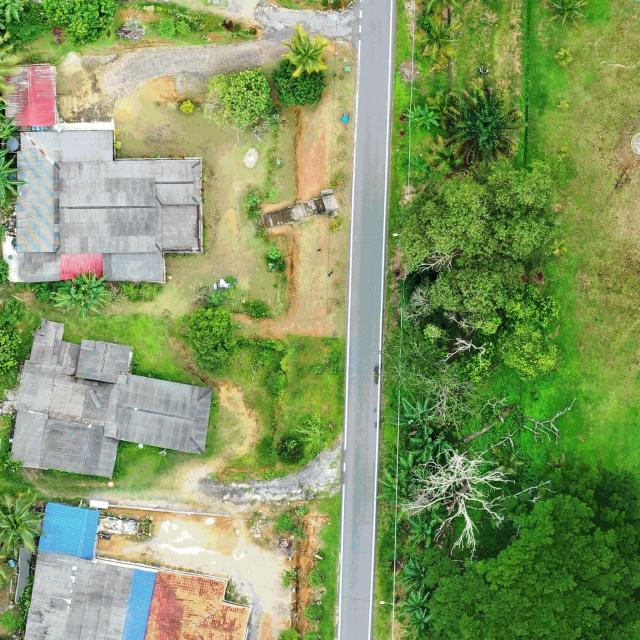Tree: (396, 158, 557, 278), (402, 448, 552, 561), (428, 252, 562, 335), (442, 86, 523, 162), (202, 66, 274, 130), (186, 305, 239, 375), (41, 0, 116, 48), (498, 324, 561, 379), (0, 493, 46, 557), (271, 59, 327, 111), (278, 24, 330, 80), (415, 15, 463, 62), (53, 279, 102, 318), (388, 400, 437, 436), (412, 425, 456, 465), (425, 134, 465, 174), (405, 510, 442, 550), (376, 469, 413, 506), (542, 0, 590, 28), (0, 156, 27, 201), (75, 270, 112, 301), (397, 589, 431, 620), (402, 608, 434, 640), (402, 558, 426, 592), (403, 103, 429, 131), (417, 103, 440, 130), (0, 0, 24, 23), (302, 601, 326, 621), (554, 46, 574, 67)
